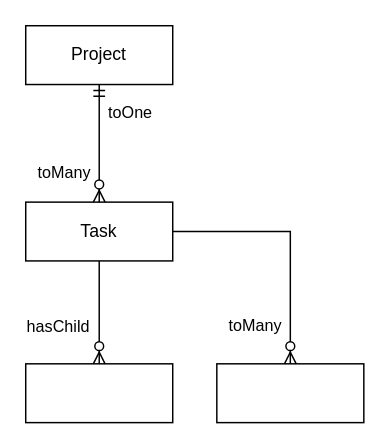
The diagram is 390 pixels wide and 448 high, and some of its shapes have lost their labels. The centre of each missing label's shape, as x and y in pixels:
"Todo" goes at pixel 98 392.
"User" goes at pixel 289 392.
